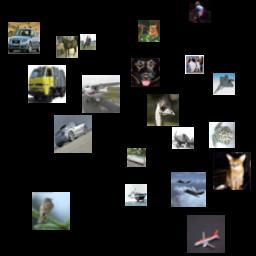airplane: (82, 75, 120, 113), (187, 215, 225, 253), (171, 172, 206, 207), (172, 127, 194, 149), (213, 73, 235, 95)
automobile: (54, 115, 92, 153), (8, 22, 40, 54)
bird: (32, 192, 70, 230), (147, 94, 179, 126), (189, 1, 211, 23)
cat: (213, 152, 251, 190), (138, 20, 160, 42)
dog: (131, 58, 160, 87), (185, 55, 204, 74)
frog: (209, 122, 235, 148)
ship: (125, 184, 147, 206)
truck: (28, 65, 66, 103), (127, 148, 146, 167)
